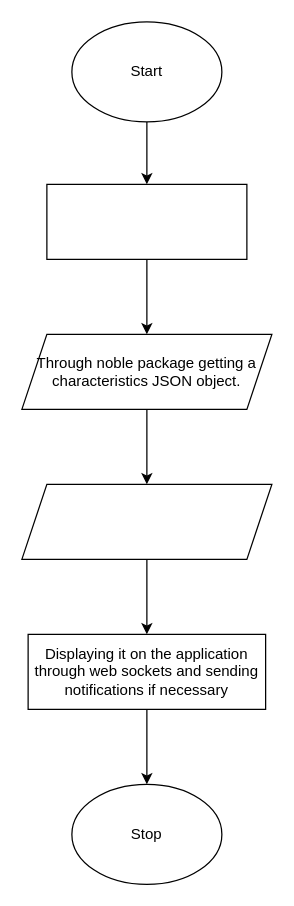
Some shapes in this 294 by 906 pixel diagram are drawn without their labels. Here are the shapes that lost their labels. From the top down, the centre of each, then its label:
At point (146, 221): "Getting parameters(rssi,n,measured power) from our hardware toolkit".
At point (146, 521): "Calculating approximate proximity distance.".
